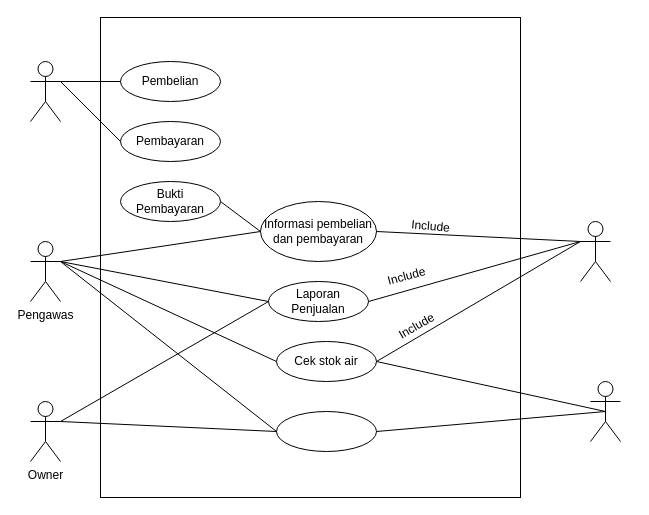
The diagram is 649 pixels wide and 515 high, and some of its shapes have lost their labels. The centre of each missing label's shape, as x and y in pixels:
Customer: point 45,91
Laporan stok air: point 326,431
Petugas 1: point 595,251
Petugas 2: point 605,411
